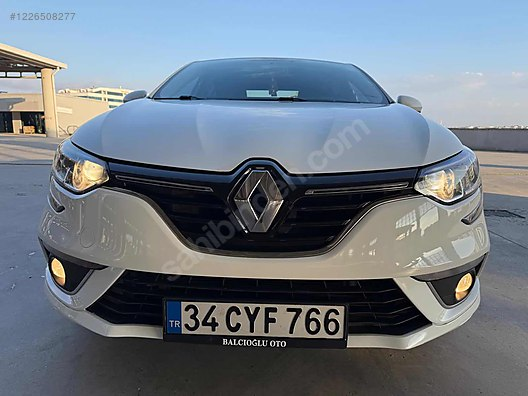plate: (173, 308, 351, 336)
